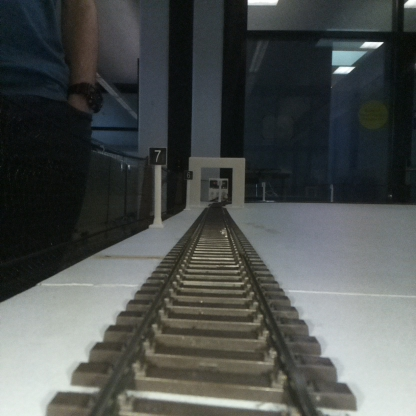black-info-6: (184, 171, 192, 210)
black-info-7: (149, 147, 166, 227)
